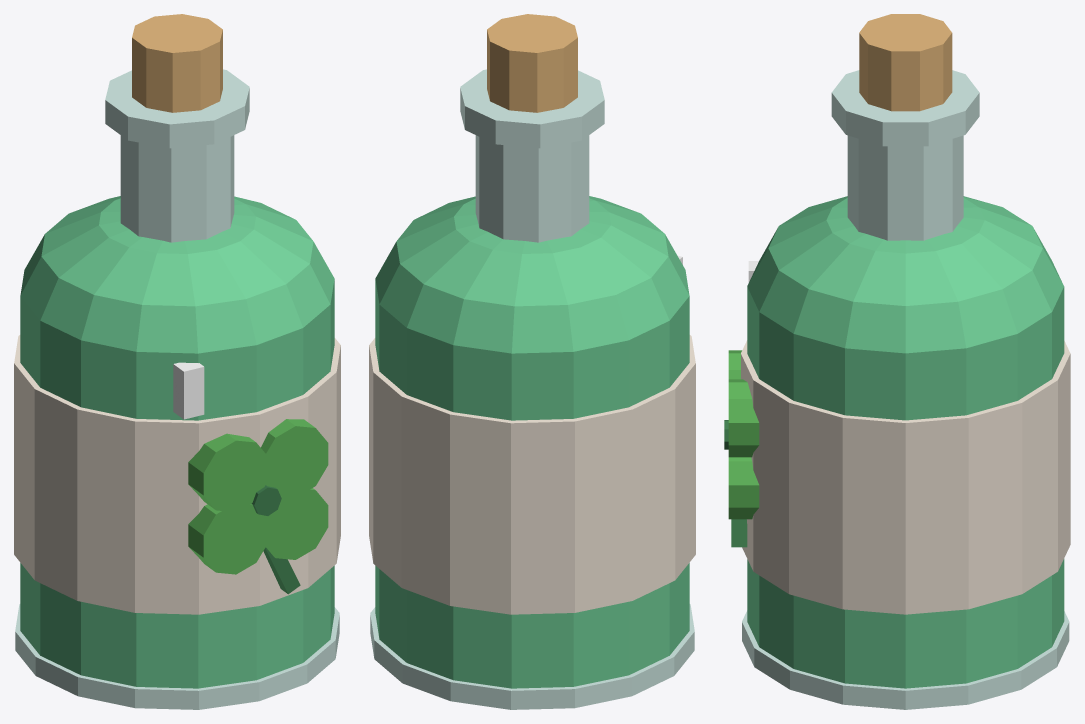
Rendered from CatCafe_Prop_Potion_Lucky.glb.
3 views of the same model, side by side, from view 1: azimuth 30°, elevation 25°; view 2: azimuth 150°, elevation 25°; view 3: azimuth 270°, elevation 25° (orthographic).
Parts seen in each view (by area): view 1: CatCafe_Prop_Potion_Lucky; view 2: CatCafe_Prop_Potion_Lucky; view 3: CatCafe_Prop_Potion_Lucky.
Boxes of the visible parts, bbox=[...] form: CatCafe_Prop_Potion_Lucky: bbox=[14, 14, 340, 709]; CatCafe_Prop_Potion_Lucky: bbox=[369, 14, 695, 709]; CatCafe_Prop_Potion_Lucky: bbox=[724, 14, 1070, 709].
Bounding box in the file's own units: 0.624 × 1.27 × 0.655.
Materials: 1 (1 with a texture image).
